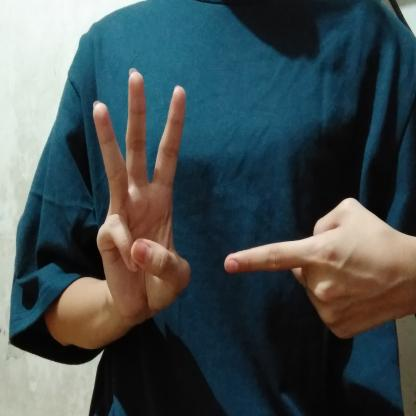why: (84, 63, 416, 349)
